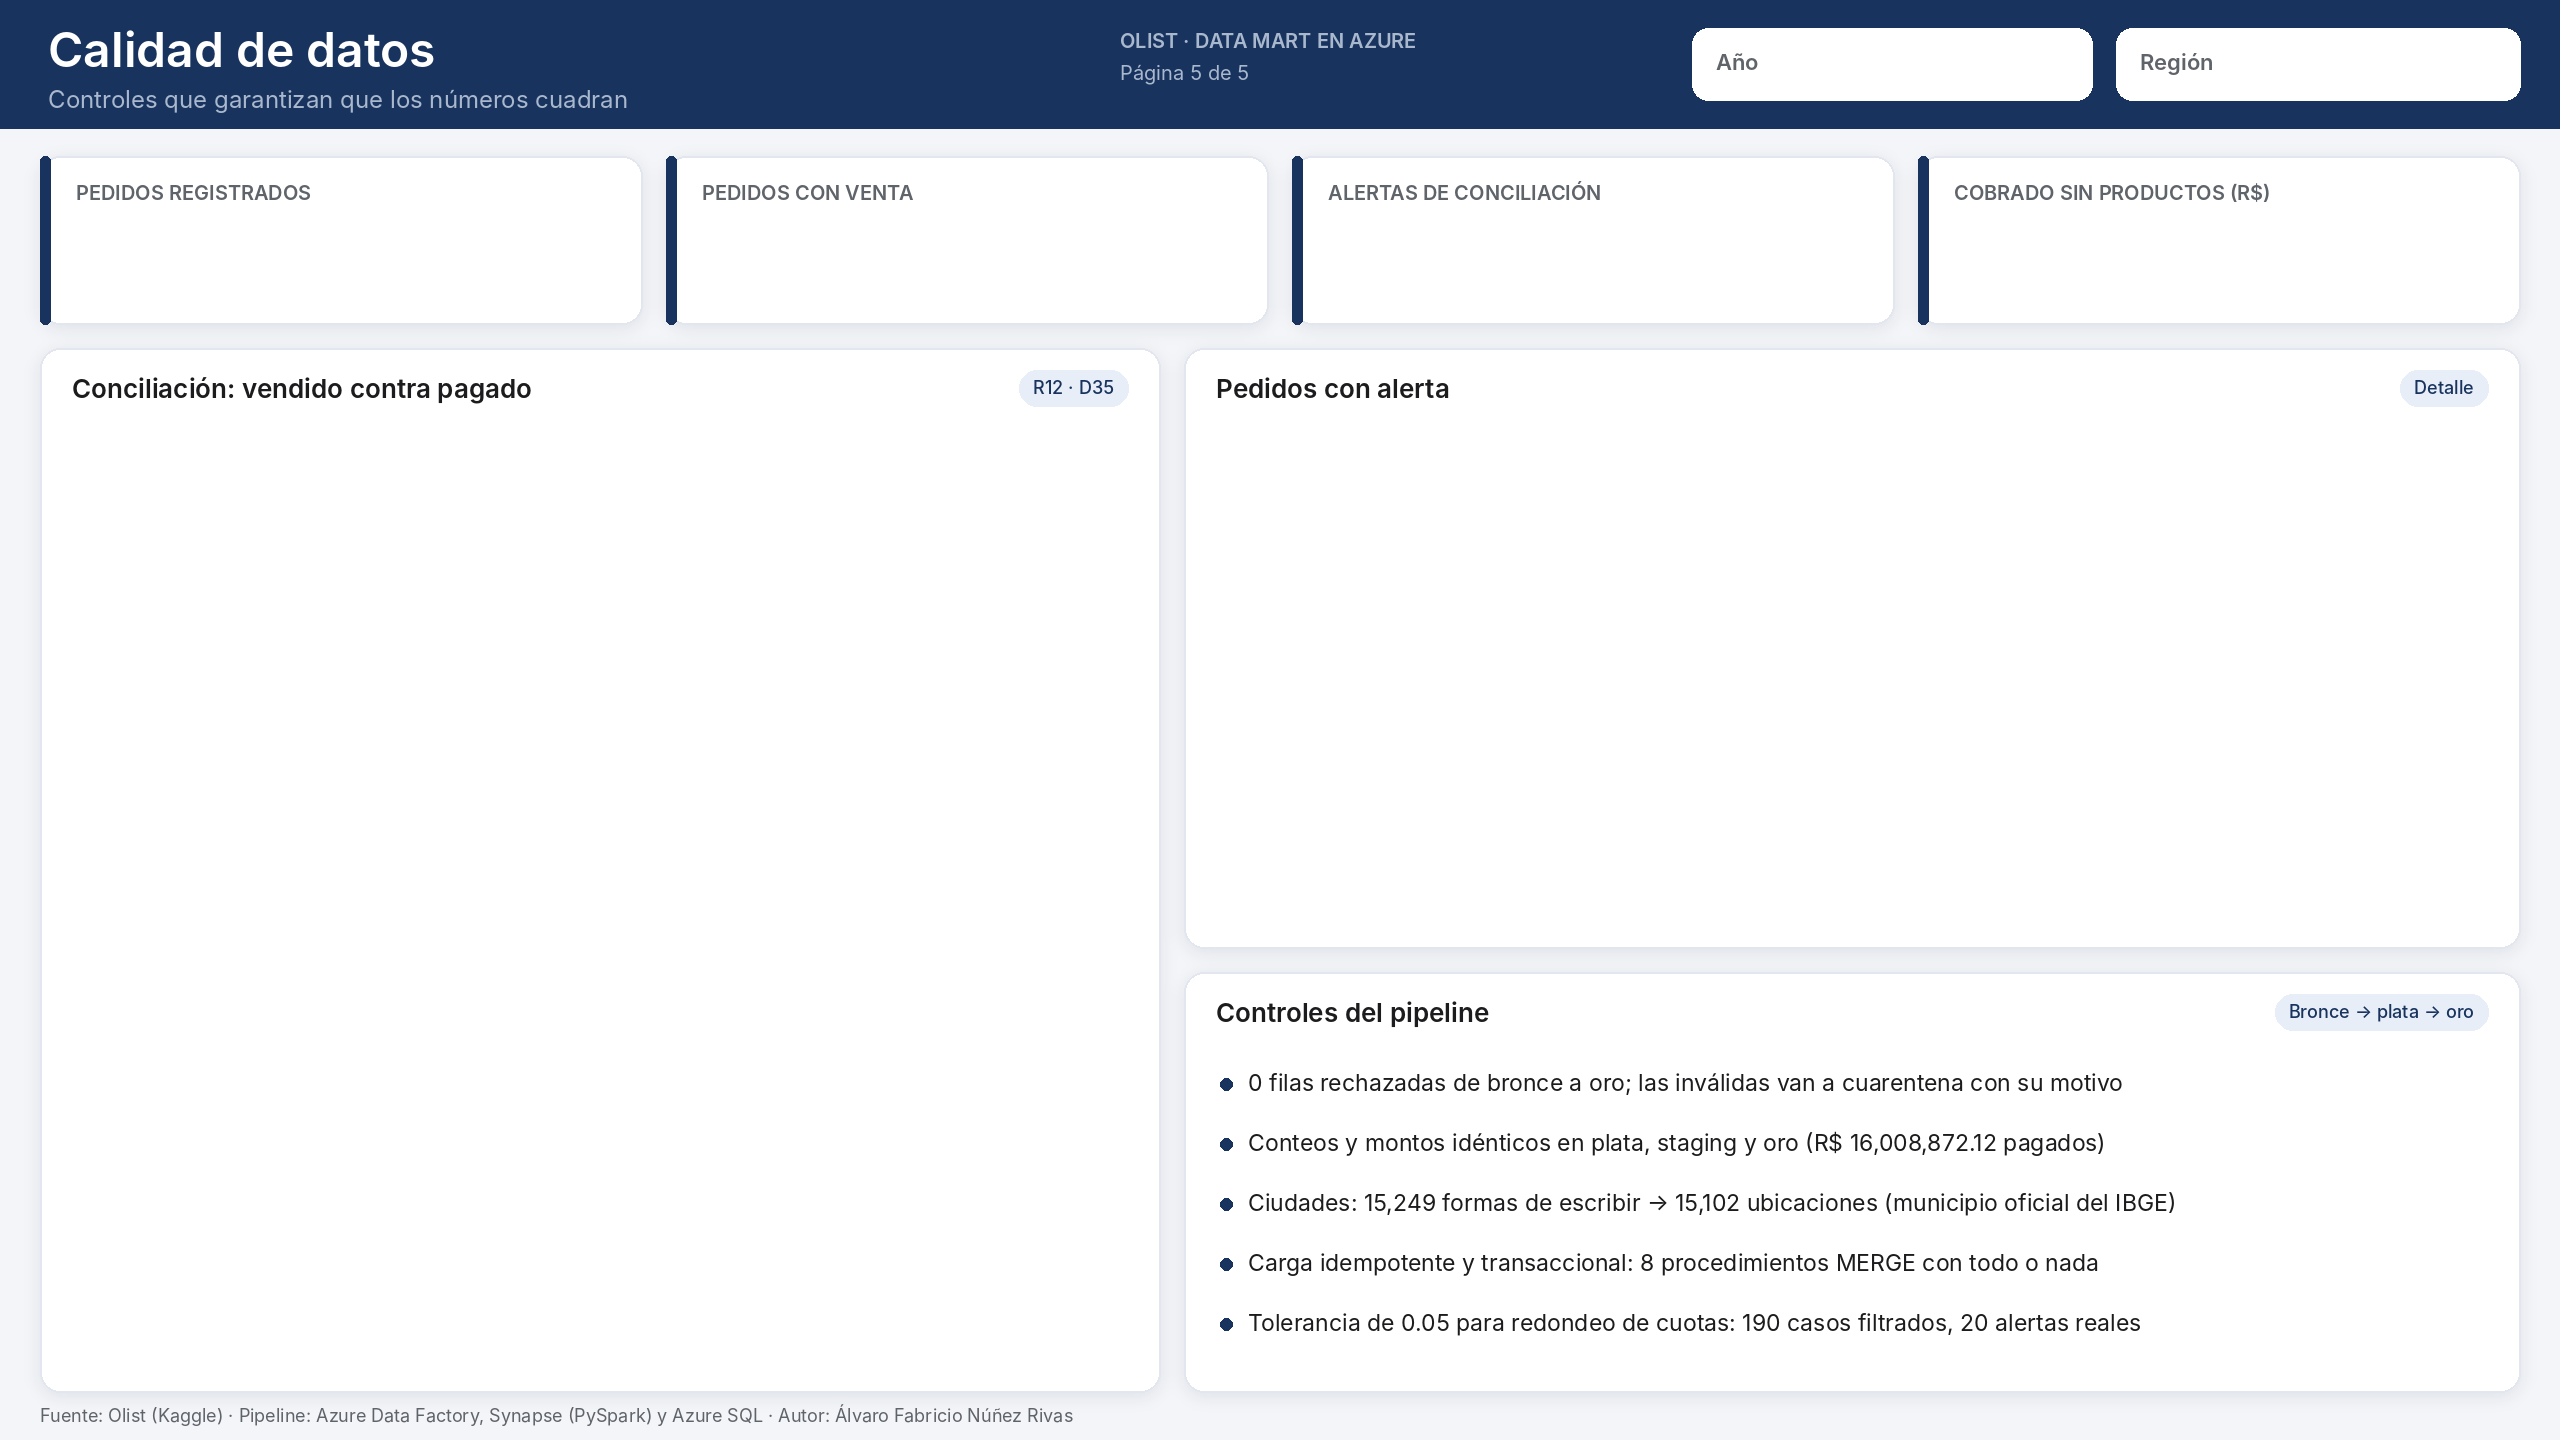

Layout of this report page (visuals, bound fields, positions):
{"tool":"powerbi","page":{"name":"Calidad","canvas":[1280,720],"ordinal":4},"visuals":[{"type":"slicer","fields":{"Values":["dim_fecha.anio"]},"box":[890,17,150,30],"z":0},{"type":"slicer","fields":{"Values":["dim_ubicacion.region"]},"box":[1112,17,144,30],"z":1},{"type":"card","fields":{"Values":["_Medidas.Pedidos registrados"]},"box":[28,100,289,60],"z":2},{"type":"card","fields":{"Values":["_Medidas.Pedidos con venta"]},"box":[341,100,289,60],"z":3},{"type":"card","fields":{"Values":["_Medidas.Alertas de conciliación"]},"box":[654,100,289,60],"z":4},{"type":"card","fields":{"Values":["_Medidas.Cobrado sin productos"]},"box":[967,100,289,60],"z":5},{"type":"clusteredBarChart","fields":{"Category":["v_conciliacion_pedidos.resultado"],"Y":["_Medidas.Pedidos conciliados"]},"box":[28,210,544,478],"z":6},{"type":"tableEx","fields":{"Values":["v_conciliacion_pedidos.order_id","v_conciliacion_pedidos.resultado","v_conciliacion_pedidos.monto_vendido","v_conciliacion_pedidos.monto_pagado","v_conciliacion_pedidos.diferencia"]},"box":[600,210,652,256],"z":7}]}

Visuals, with their boxes in screenshot pixels (x1, y1, x2, y2), scaled from the page's 1280x720 canvas onto the 2560x1440 screenshot:
slicer - dim_fecha.anio: pyautogui.locateOnScreen(1780, 34, 2080, 94)
slicer - dim_ubicacion.region: pyautogui.locateOnScreen(2224, 34, 2512, 94)
card - _Medidas.Pedidos registrados: pyautogui.locateOnScreen(56, 200, 634, 320)
card - _Medidas.Pedidos con venta: pyautogui.locateOnScreen(682, 200, 1260, 320)
card - _Medidas.Alertas de conciliación: pyautogui.locateOnScreen(1308, 200, 1886, 320)
card - _Medidas.Cobrado sin productos: pyautogui.locateOnScreen(1934, 200, 2512, 320)
clusteredBarChart - v_conciliacion_pedidos.resultado x _Medidas.Pedidos conciliados: pyautogui.locateOnScreen(56, 420, 1144, 1376)
tableEx - v_conciliacion_pedidos.order_id x v_conciliacion_pedidos.resultado: pyautogui.locateOnScreen(1200, 420, 2504, 932)
